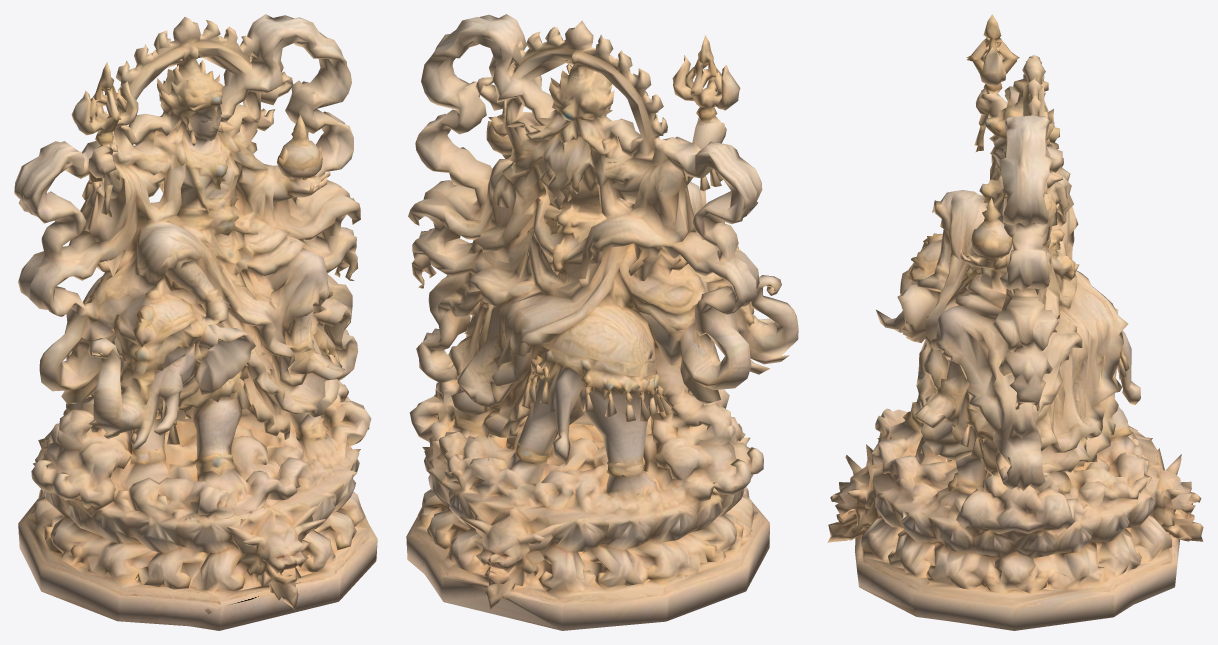
The picture shows the model from 3 angles, left to right: view 1: azimuth 30°, elevation 25°; view 2: azimuth 150°, elevation 25°; view 3: azimuth 270°, elevation 25°; orthographic projection. The views are drawn at different scales.
Visible parts, largest first — view 1: owner-collection20-04; view 2: owner-collection20-04; view 3: owner-collection20-04.
Part boxes in pixels (x1,y1,x2,y2): owner-collection20-04: [14, 14, 377, 630]; owner-collection20-04: [406, 14, 798, 630]; owner-collection20-04: [827, 14, 1203, 630].
Bounding box in the file's own units: 0.6599 × 1 × 0.6785.
1 material, 1 textured.
